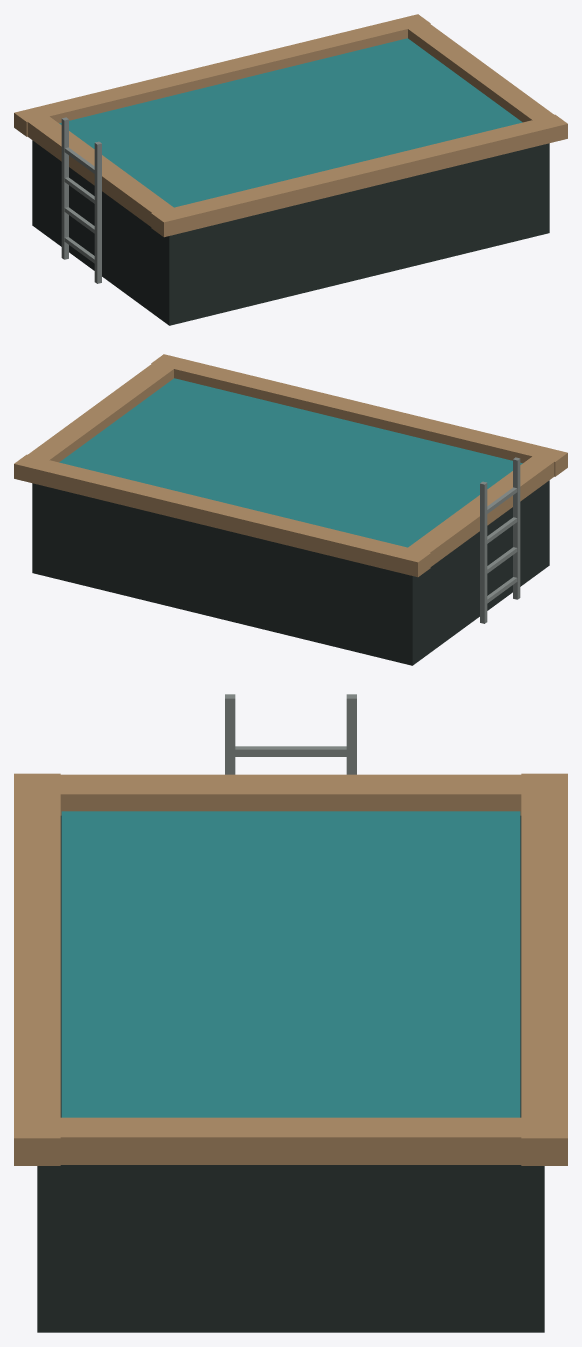
File: pool.glb
3 views of the same model, one above another, from view 1: azimuth 30°, elevation 25°; view 2: azimuth 150°, elevation 25°; view 3: azimuth 270°, elevation 25° (orthographic). The views are drawn at different scales.
Visible parts, largest first — view 1: pool_Antracit, pool_Voda, pool_Modrin, pool_Ocel; view 2: pool_Antracit, pool_Voda, pool_Modrin, pool_Ocel; view 3: pool_Voda, pool_Antracit, pool_Modrin, pool_Ocel.
Part boxes in pixels (left/top/right/bottom): pool_Antracit: left=32, top=140, right=549, bottom=325; pool_Voda: left=59, top=38, right=522, bottom=207; pool_Modrin: left=14, top=14, right=567, bottom=237; pool_Ocel: left=61, top=117, right=101, bottom=283; pool_Antracit: left=32, top=480, right=549, bottom=665; pool_Voda: left=59, top=378, right=522, bottom=547; pool_Modrin: left=14, top=354, right=567, bottom=577; pool_Ocel: left=480, top=457, right=520, bottom=623; pool_Voda: left=61, top=811, right=520, bottom=1117; pool_Antracit: left=37, top=815, right=544, bottom=1332; pool_Modrin: left=14, top=773, right=567, bottom=1165; pool_Ocel: left=225, top=694, right=356, bottom=774.
Size of the model in its own units: 4.35 by 1.5 by 2.73.
